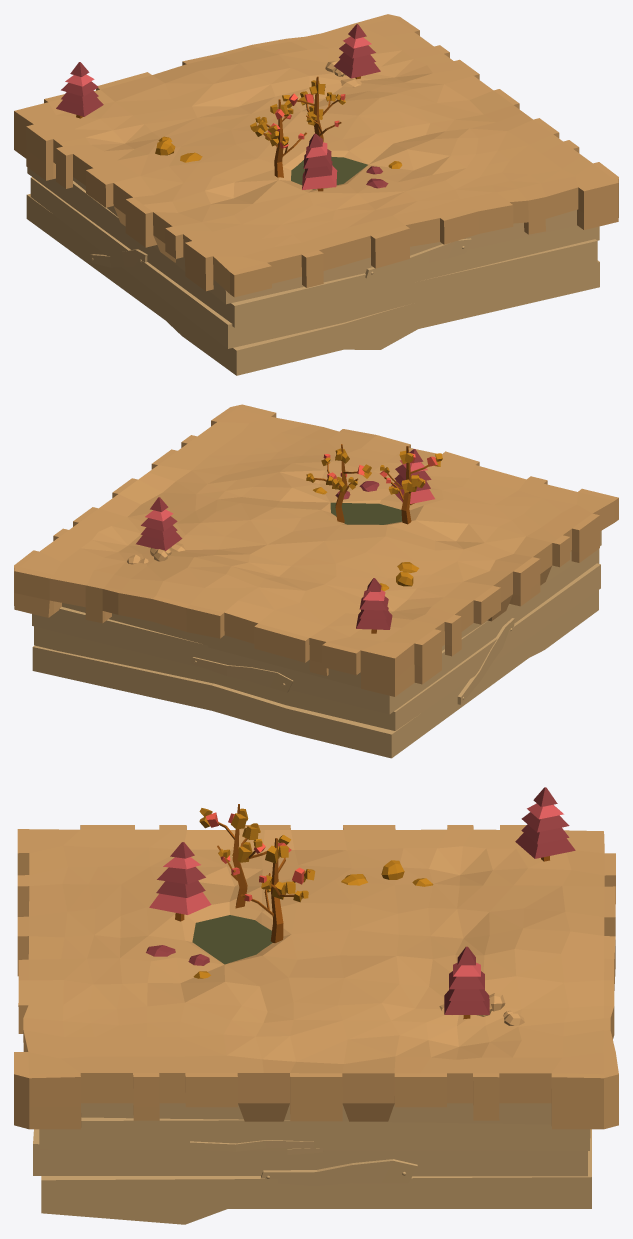
File: autumn_tile.glb
3 renders of one model, top to bottom at view 1: azimuth 30°, elevation 25°; view 2: azimuth 150°, elevation 25°; view 3: azimuth 270°, elevation 25°, orthographic. The views are drawn at different scales.
Parts seen in each view (by area): view 1: autumn_tile_0; view 2: autumn_tile_0; view 3: autumn_tile_0.
Part boxes in pixels (box(x1,y1,x2,y2)): autumn_tile_0: box(14, 14, 618, 375); autumn_tile_0: box(14, 404, 618, 758); autumn_tile_0: box(14, 787, 618, 1224).
Bounding box in the file's own units: 5.11 × 2.62 × 5.18.
